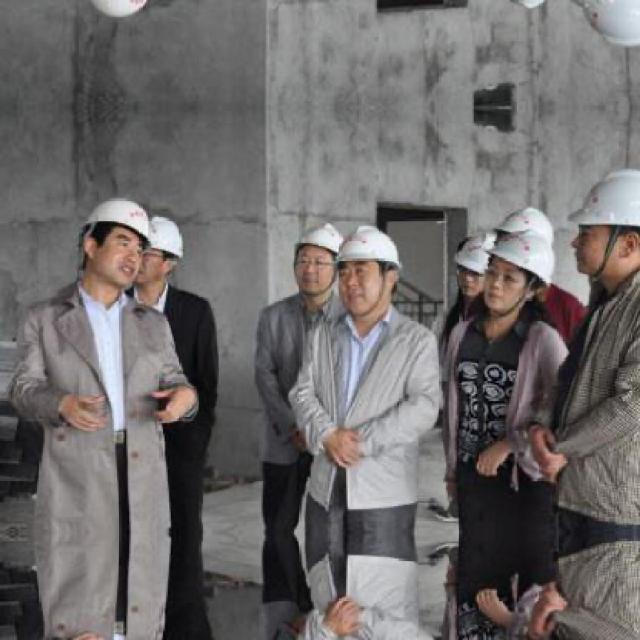helmet: (568, 166, 638, 282), (78, 197, 152, 288), (334, 221, 400, 317), (483, 231, 554, 312), (290, 215, 344, 292), (128, 217, 186, 286), (566, 0, 639, 48), (454, 228, 497, 300), (495, 205, 557, 252)
